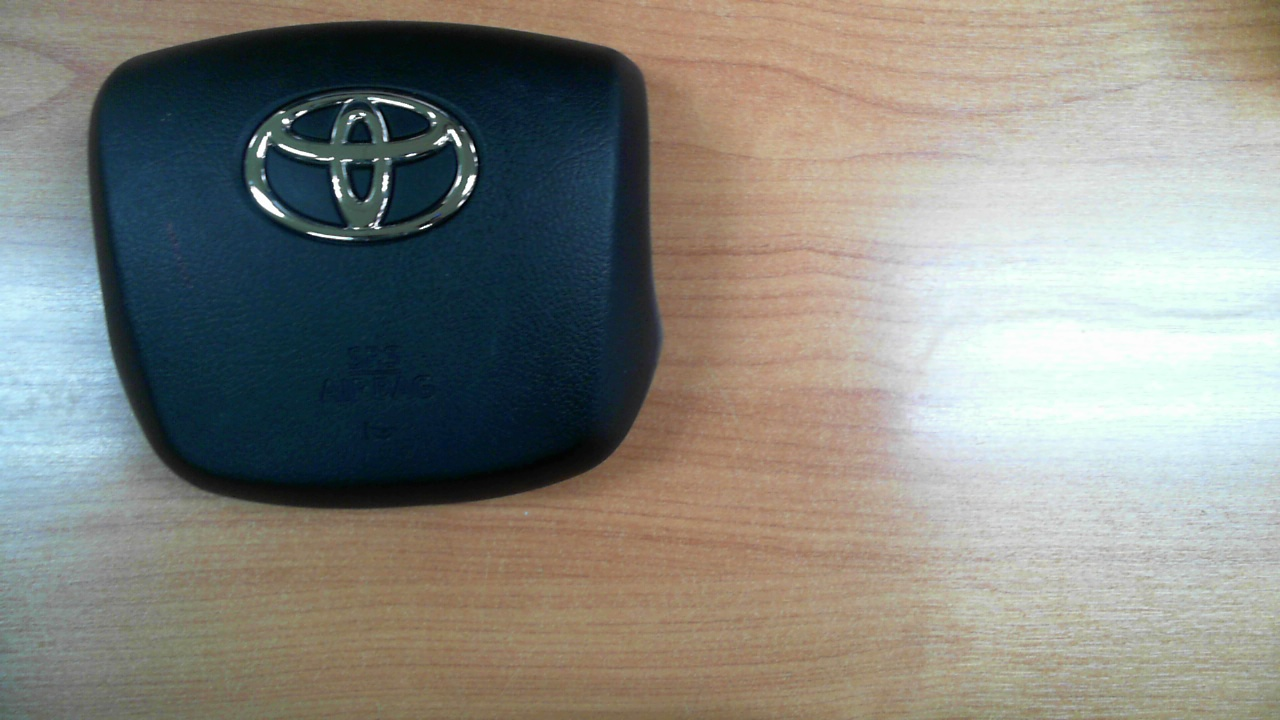Airbag: (93, 21, 658, 509)
Toyota: (243, 89, 479, 242)
